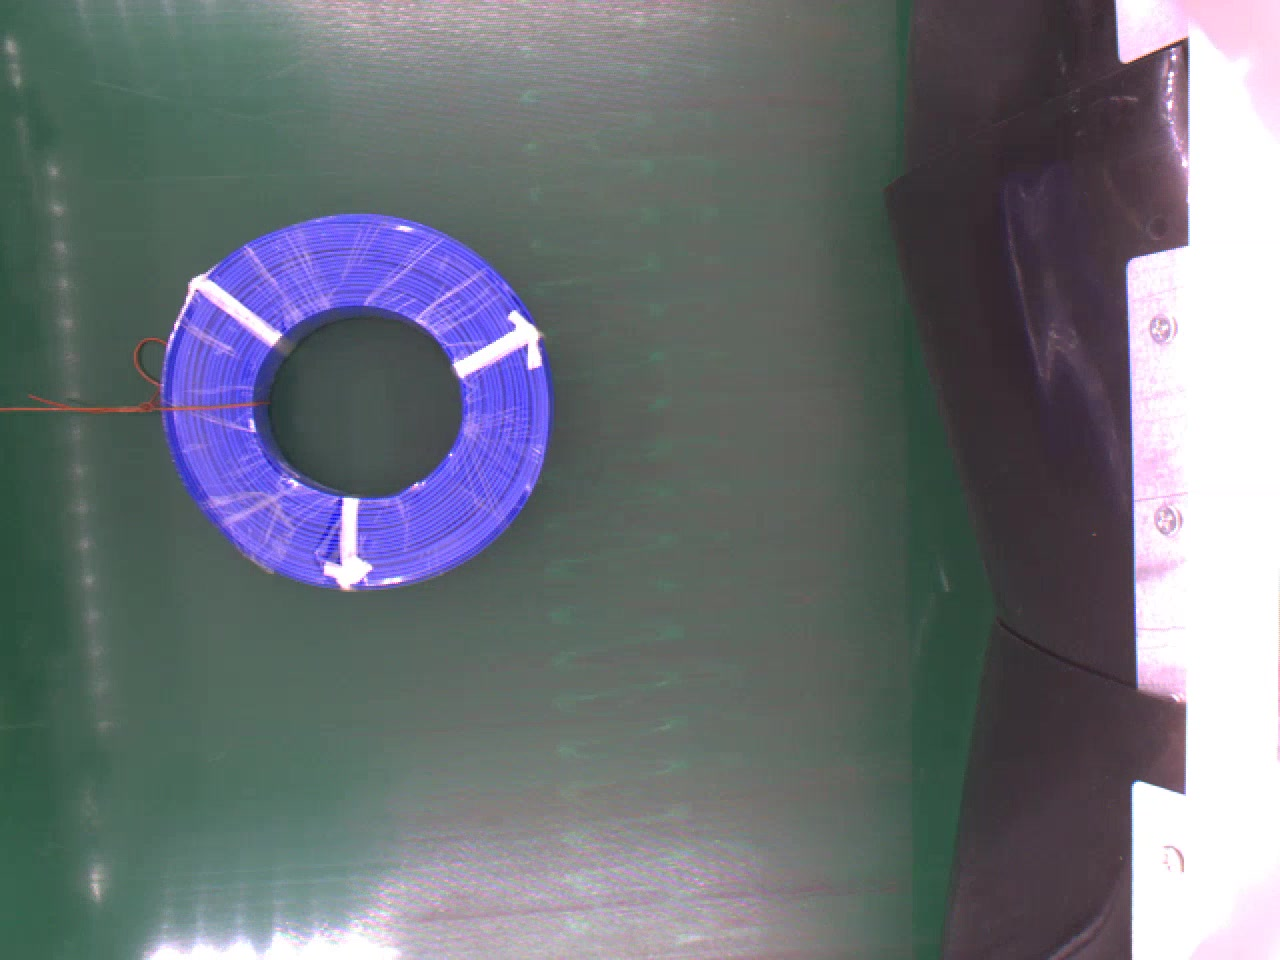blue: (162, 216, 553, 594)
